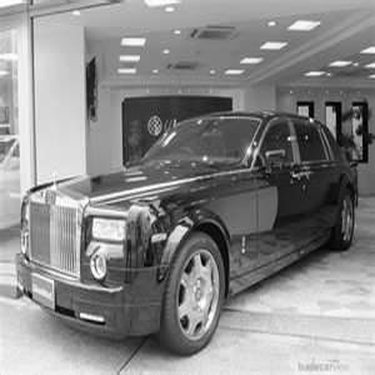car: (8, 100, 364, 361)
